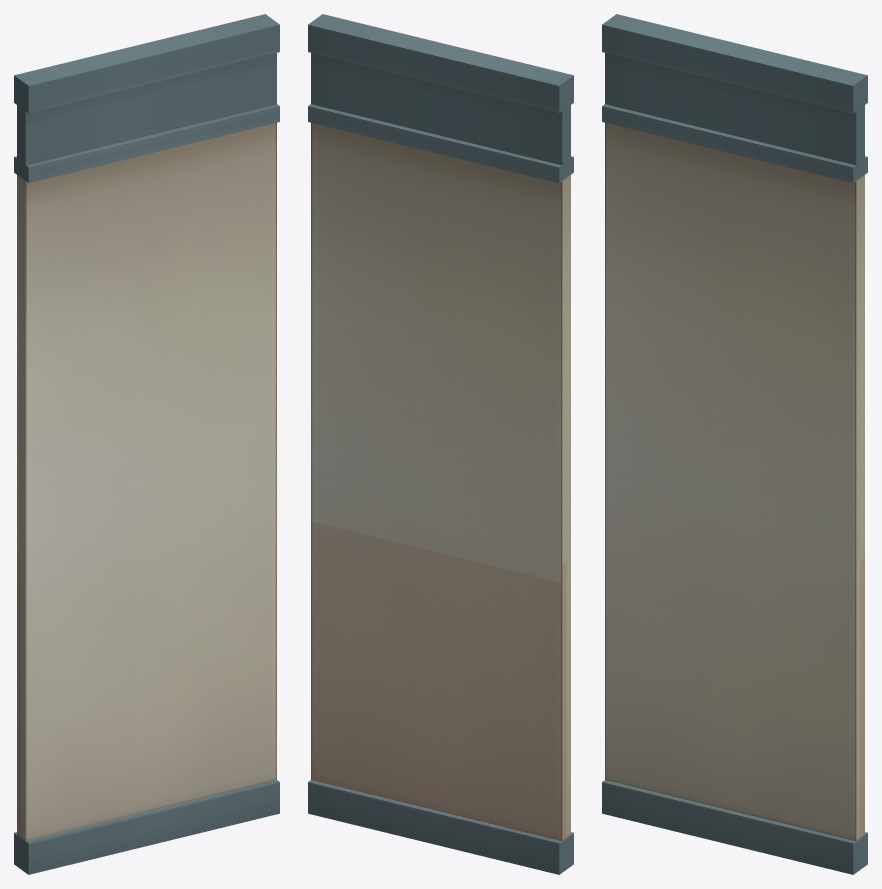
Rendered from SHW_Wall_01_02.fbx.
3 renders of one model, left to right at view 1: azimuth 30°, elevation 25°; view 2: azimuth 150°, elevation 25°; view 3: azimuth 330°, elevation 25°, orthographic.
Parts seen in each view (by area): view 1: shw_wall_01_02; view 2: shw_wall_01_02; view 3: shw_wall_01_02.
Boxes of the visible parts, x1=… form: shw_wall_01_02: x1=14, y1=14, x2=279, y2=874; shw_wall_01_02: x1=308, y1=14, x2=573, y2=874; shw_wall_01_02: x1=602, y1=14, x2=867, y2=874.
Size of the model in its own units: 100 by 300 by 10.
